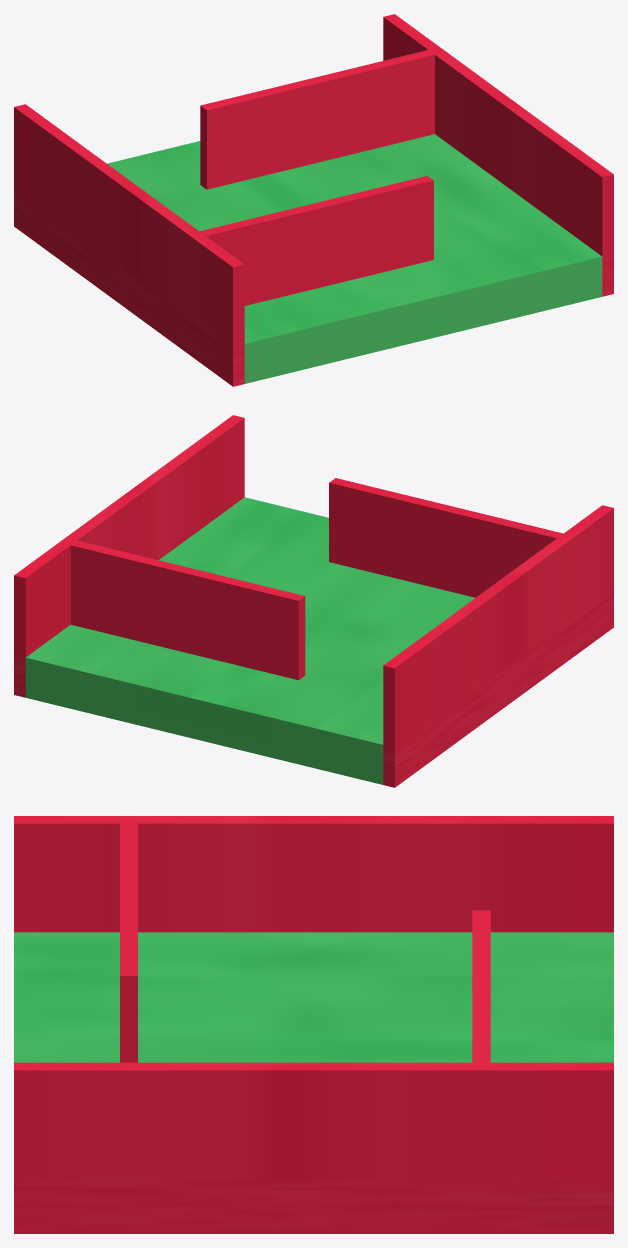
Rendered from Two_Rows.fbx.
3 views of the same model, one above another, from view 1: azimuth 30°, elevation 25°; view 2: azimuth 150°, elevation 25°; view 3: azimuth 270°, elevation 25° (orthographic). The views are drawn at different scales.
Visible parts, largest first — view 1: Fence, Two_Rows; view 2: Fence, Two_Rows; view 3: Fence, Two_Rows.
Part boxes in pixels (bbox=[...]): Fence: bbox=[14, 14, 613, 386]; Two_Rows: bbox=[107, 134, 602, 383]; Fence: bbox=[14, 415, 613, 787]; Two_Rows: bbox=[25, 497, 475, 784]; Fence: bbox=[14, 816, 613, 1233]; Two_Rows: bbox=[14, 932, 613, 1062].
Size of the model in its own units: 100 by 30.07 by 99.98.
